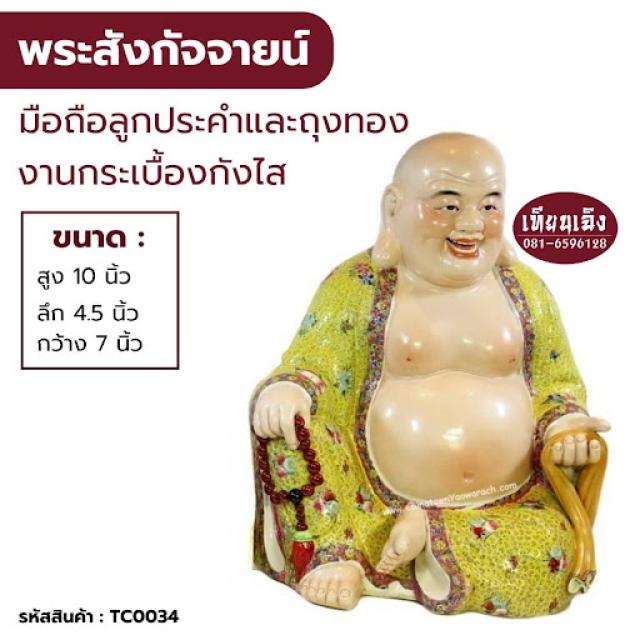Smiling Buddha: (297, 129, 595, 529)
